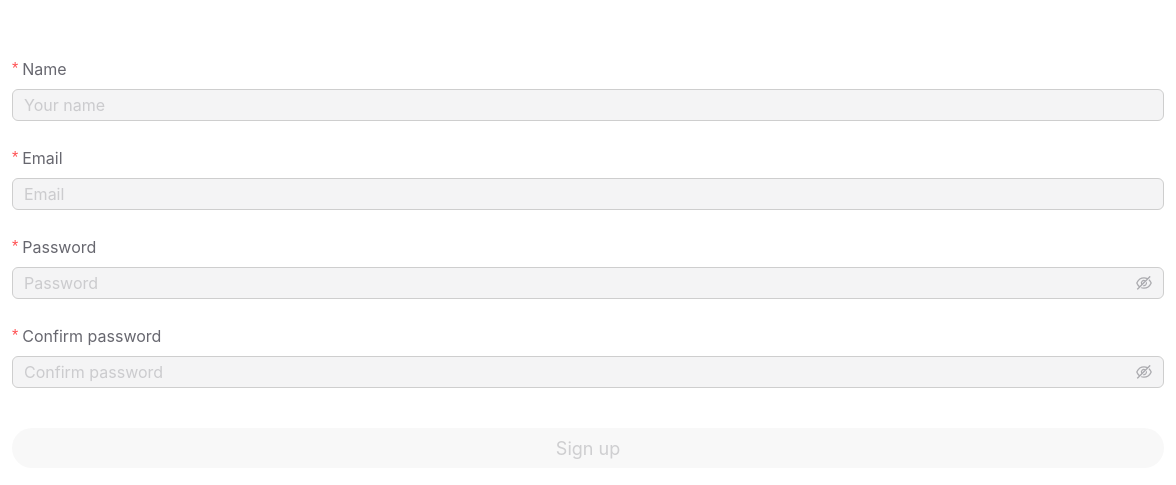
Scenario: SignUpForm › shows global api error when field not specified
The width and height of the screenshot is (1176, 485).
Type "UserName" into the field with placeholder "Your name" at (588, 105), box 12,89 -> 1164,121
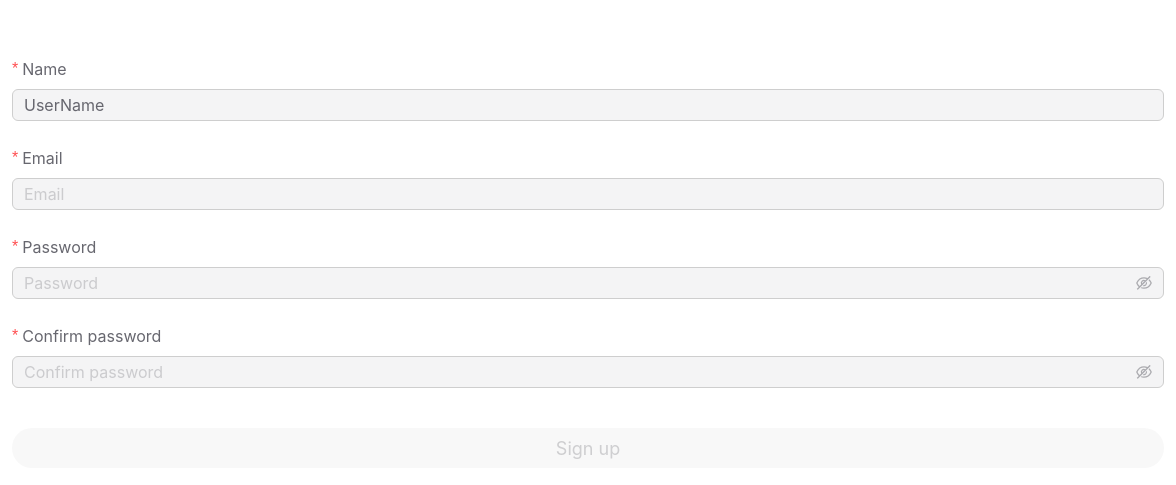
Type "user@example.com" into the field with placeholder "Email" at (588, 194), box 12,178 -> 1164,210
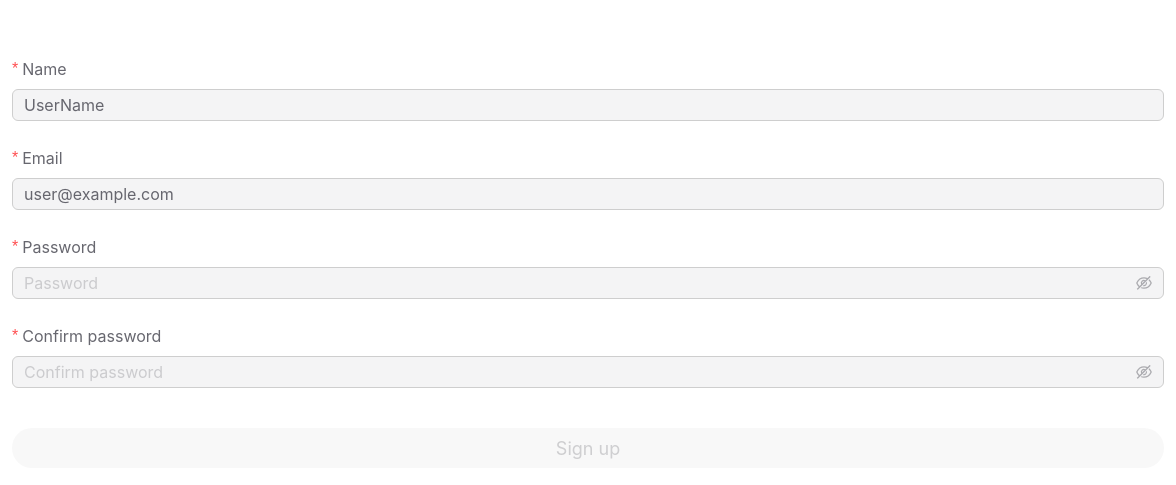
Type "Secret123!" into the password field with placeholder "Password" at (578, 283), box 24,271 -> 1132,295
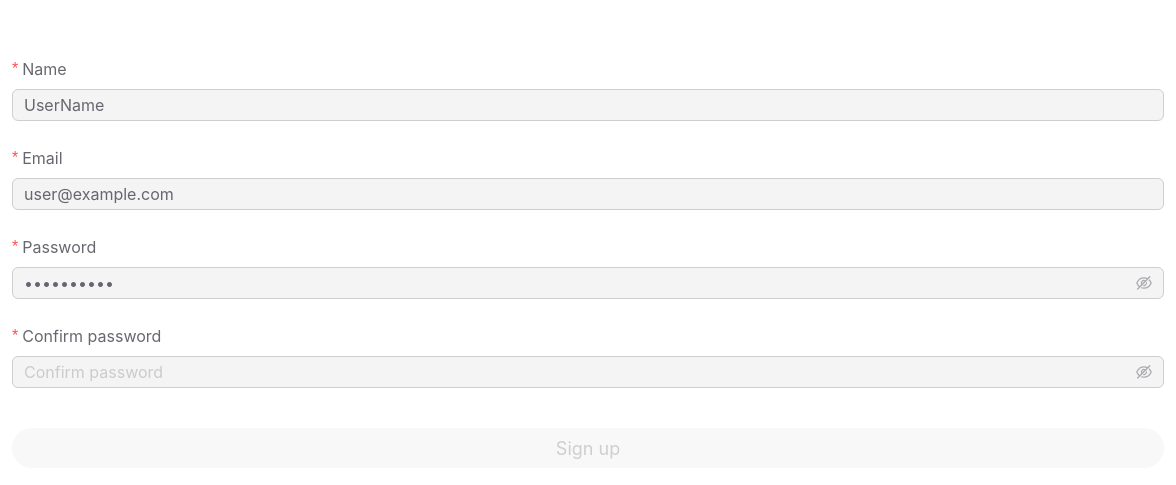
Type "Secret123!" into the password field with placeholder "Confirm password" at (578, 372), box 24,360 -> 1132,384
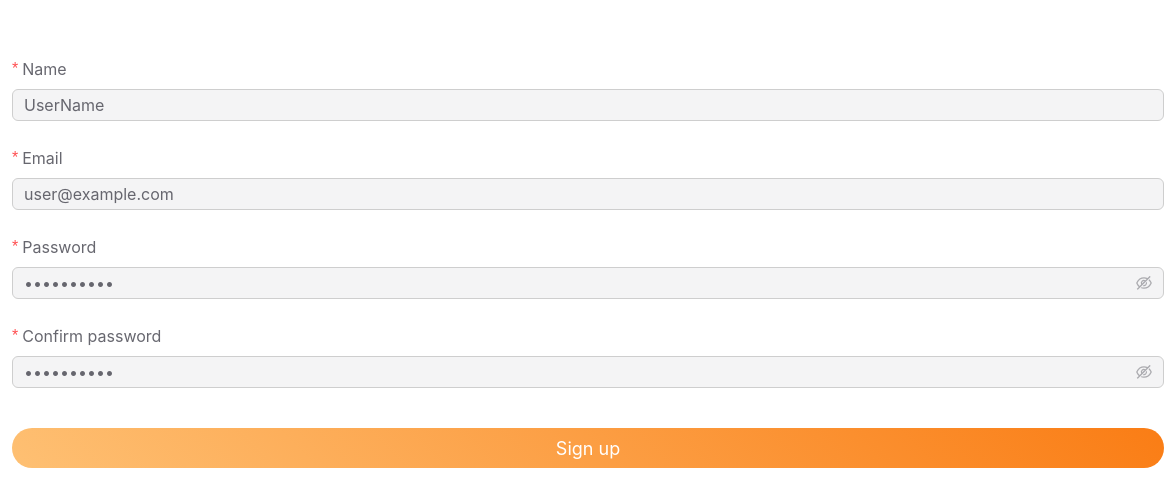
Click the button "Sign up" at (588, 448), box 12,428 -> 1164,468
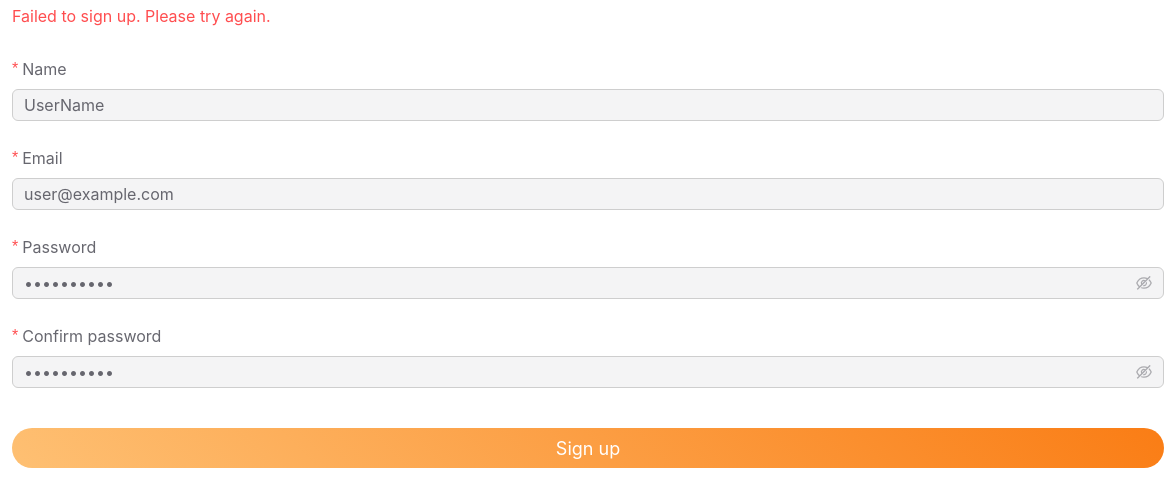
Check: the text "Failed to sign up. Please try again." is shown, box 12,6 -> 271,26
